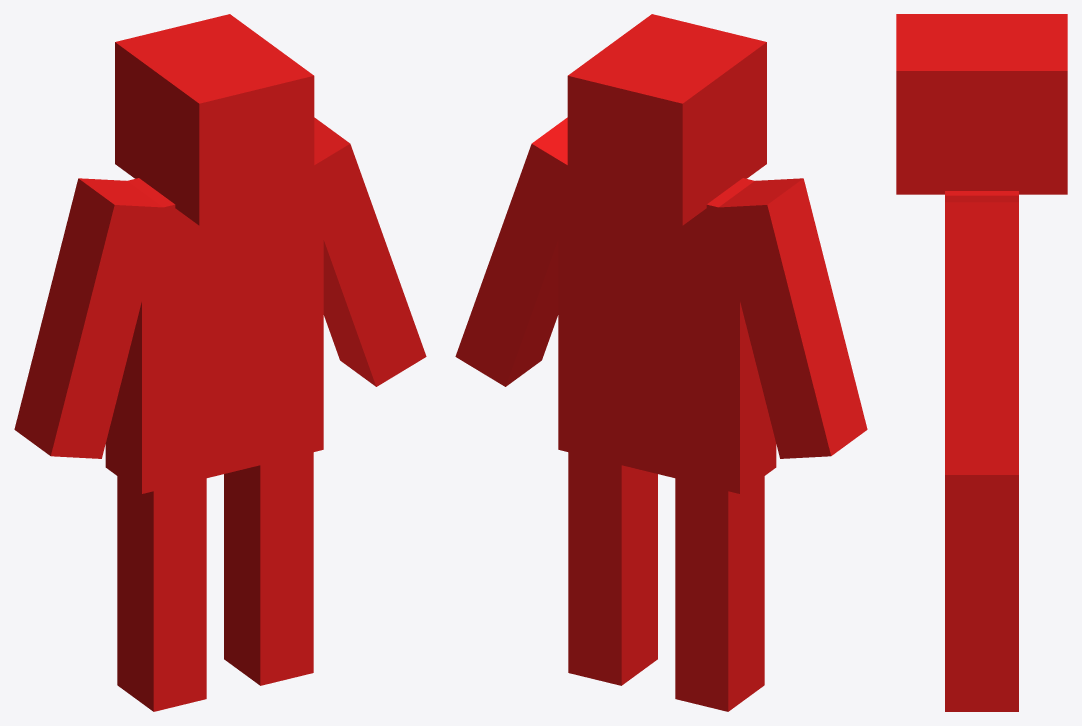
The model's file is Mensch.fbx.
3 renders of one model, left to right at view 1: azimuth 30°, elevation 25°; view 2: azimuth 150°, elevation 25°; view 3: azimuth 270°, elevation 25°, orthographic.
Visible parts, largest first — view 1: Würfel_2, Würfel_5, Würfel_4, Würfel, Würfel_1, Würfel_3; view 2: Würfel_2, Würfel_5, Würfel_4, Würfel, Würfel_1, Würfel_3; view 3: Würfel_5, Würfel_3, Würfel_1, Würfel_2.
Part boxes in pixels (bbox=[...]): Würfel_2: bbox=[105, 168, 323, 493]; Würfel_5: bbox=[115, 14, 314, 225]; Würfel_4: bbox=[14, 178, 165, 458]; Würfel: bbox=[117, 476, 206, 711]; Würfel_1: bbox=[224, 429, 313, 685]; Würfel_3: bbox=[309, 117, 426, 386]; Würfel_2: bbox=[558, 168, 776, 493]; Würfel_5: bbox=[567, 14, 766, 225]; Würfel_4: bbox=[716, 178, 867, 458]; Würfel: bbox=[675, 458, 764, 711]; Würfel_1: bbox=[568, 433, 657, 685]; Würfel_3: bbox=[455, 117, 572, 386]; Würfel_5: bbox=[896, 14, 1067, 194]; Würfel_3: bbox=[945, 195, 1018, 474]; Würfel_1: bbox=[945, 493, 1018, 711]; Würfel_2: bbox=[945, 191, 1018, 492].
Bounding box in the file's own units: 132 × 208 × 51.18.
